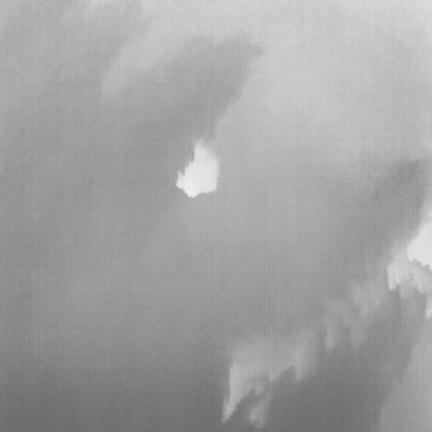flukeprints: (176, 143, 218, 197)
